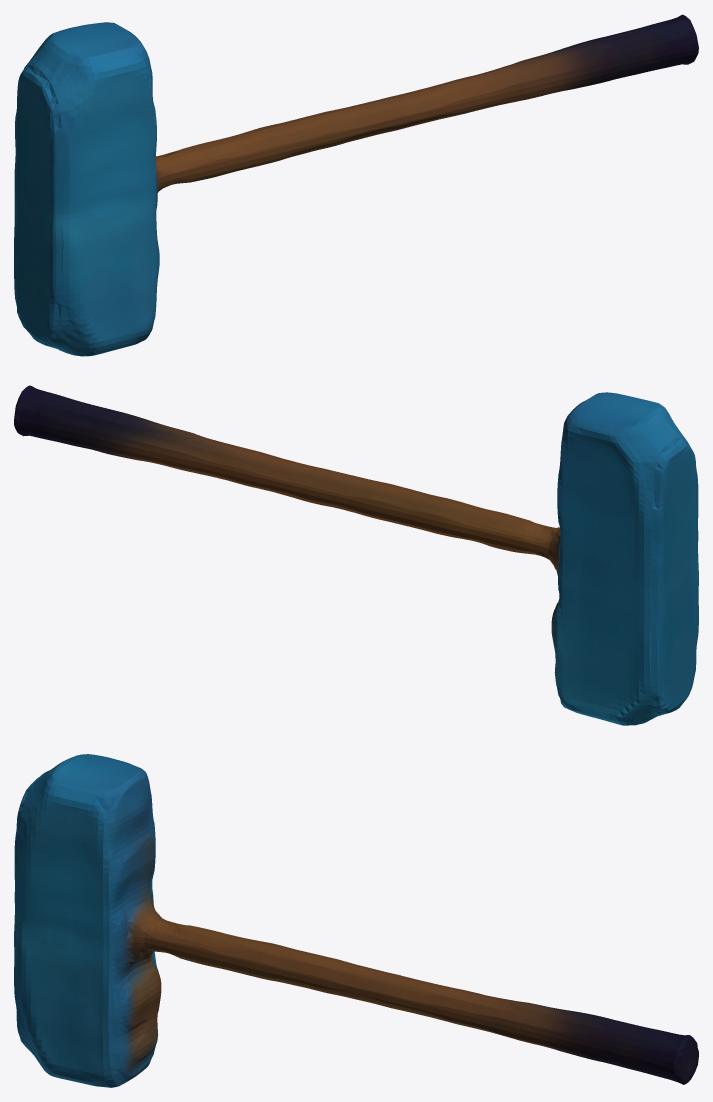
The model's file is debug_hammer.glb.
The picture shows the model from 3 angles, top to bottom: view 1: azimuth 30°, elevation 25°; view 2: azimuth 150°, elevation 25°; view 3: azimuth 330°, elevation 25°; orthographic projection.
Parts seen in each view (by area): view 1: debug_hammer.ply; view 2: debug_hammer.ply; view 3: debug_hammer.ply.
Boxes of the visible parts, x1,y1,x2,y2 form: debug_hammer.ply: (14, 14, 698, 356); debug_hammer.ply: (14, 385, 698, 725); debug_hammer.ply: (14, 754, 698, 1087).
Bounding box in the file's own units: 1.98 × 0.8609 × 0.2571.
